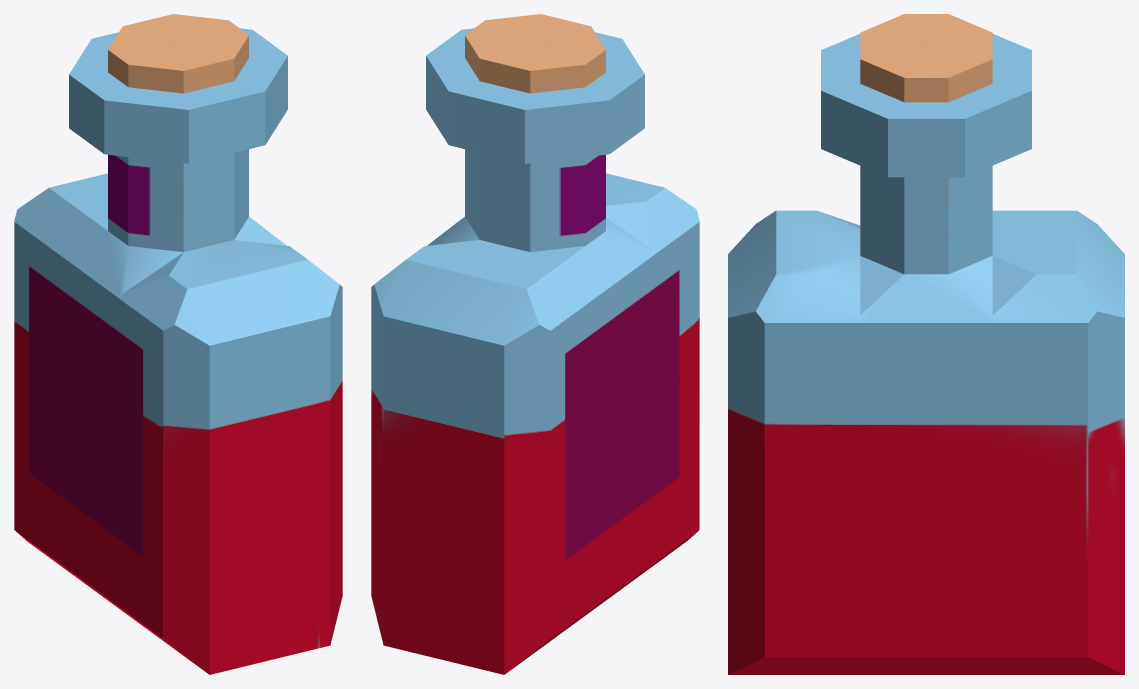
The model's file is heal.fbx.
3 views of the same model, side by side, from view 1: azimuth 30°, elevation 25°; view 2: azimuth 150°, elevation 25°; view 3: azimuth 270°, elevation 25° (orthographic). The views are drawn at different scales.
Parts seen in each view (by area): view 1: Cube; view 2: Cube; view 3: Cube.
Part boxes in pixels (left/top/right/bottom): Cube: left=14, top=14, right=342, bottom=674; Cube: left=371, top=14, right=699, bottom=674; Cube: left=728, top=14, right=1124, bottom=674.
Size of the model in its own units: 63.77 by 183 by 110.
Materials: 1 (1 with a texture image).
